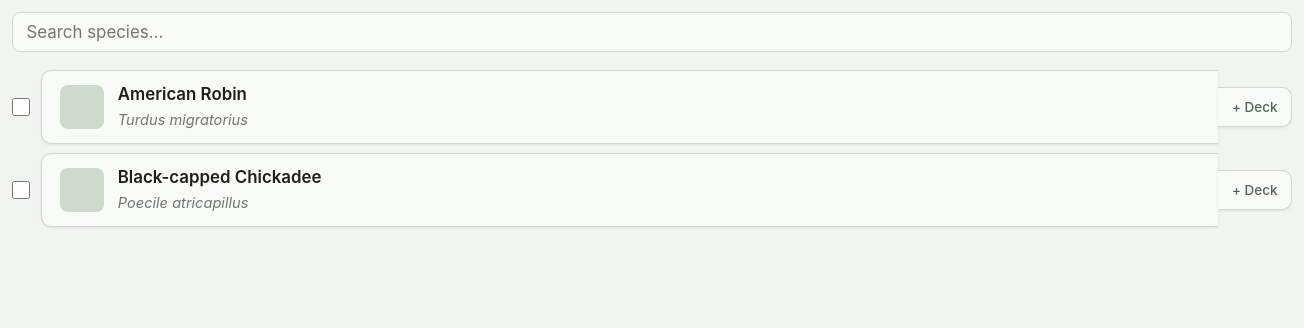
Test: Explore page › shows bulk add bar when a species is checked
This screenshot has width=1304, height=328.
Click the checkbox named "Select American Robin" at (21, 107), box [12,98,30,116]
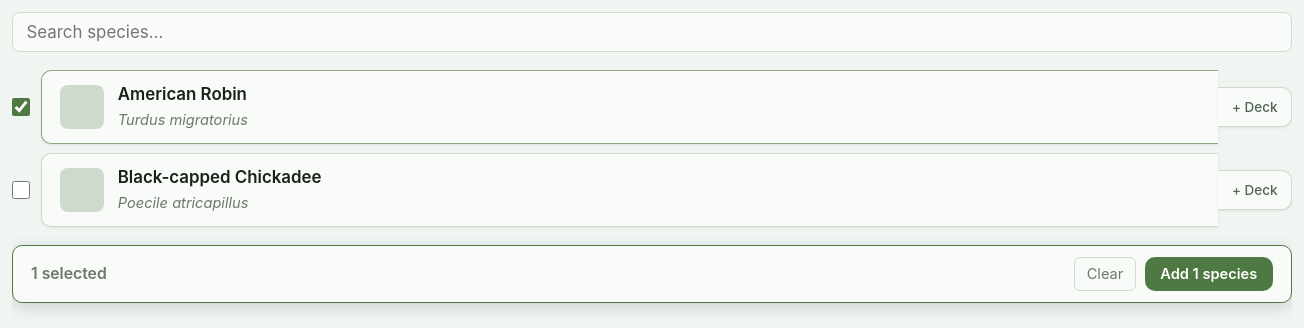
Expected: the element showing "1 selected Clear Add 1 species" is shown, [12,245,1292,303]
Expected: the text "1 selected" is shown, [31,262,107,286]
